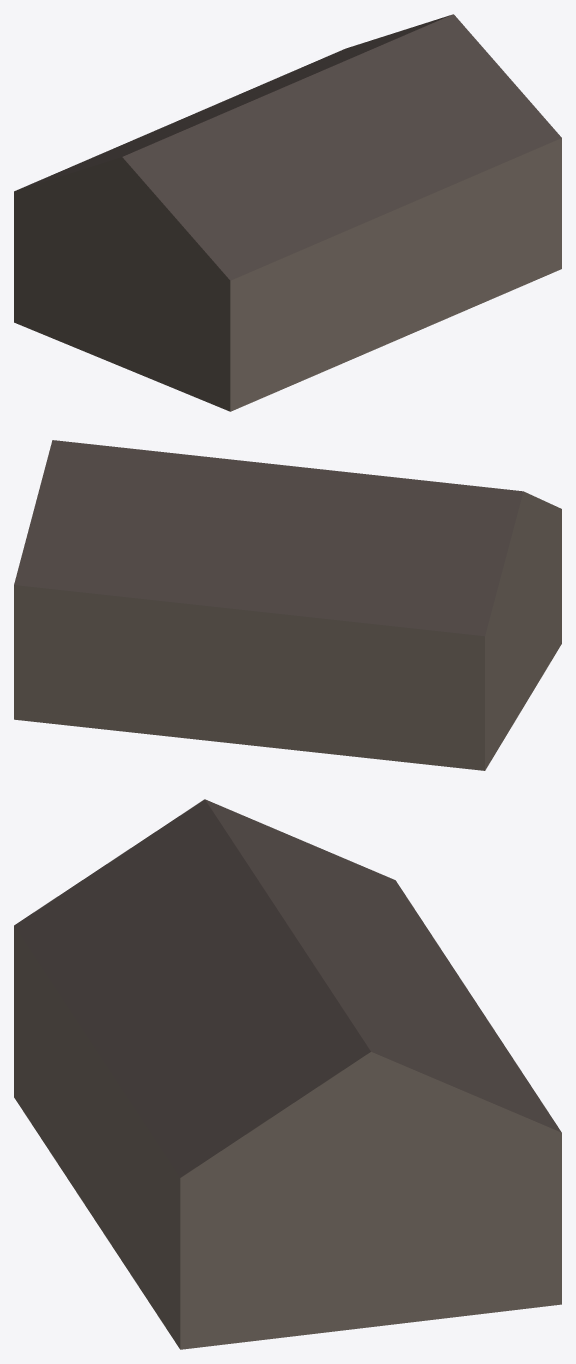
3 views of the same model, one above another, from view 1: azimuth 30°, elevation 25°; view 2: azimuth 150°, elevation 25°; view 3: azimuth 270°, elevation 25° (orthographic). The views are drawn at different scales.
Visible parts, largest first — view 1: HP-w373833574; view 2: HP-w373833574; view 3: HP-w373833574.
Part boxes in pixels (<box>): HP-w373833574: <box>14,14,561,411</box>; HP-w373833574: <box>14,440,561,770</box>; HP-w373833574: <box>14,799,561,1349</box>.
Bounding box in the file's own units: 22.32 × 9.62 × 17.35.
